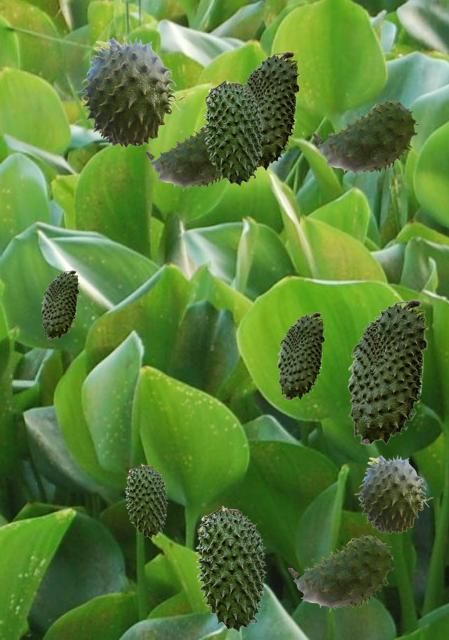guyabano: (75, 36, 185, 147), (347, 299, 427, 444), (195, 505, 266, 631), (288, 535, 393, 611), (312, 100, 417, 176), (243, 51, 299, 170), (203, 79, 263, 185), (354, 454, 432, 533), (145, 123, 220, 190), (277, 312, 324, 399), (125, 463, 167, 537), (41, 270, 78, 338)
